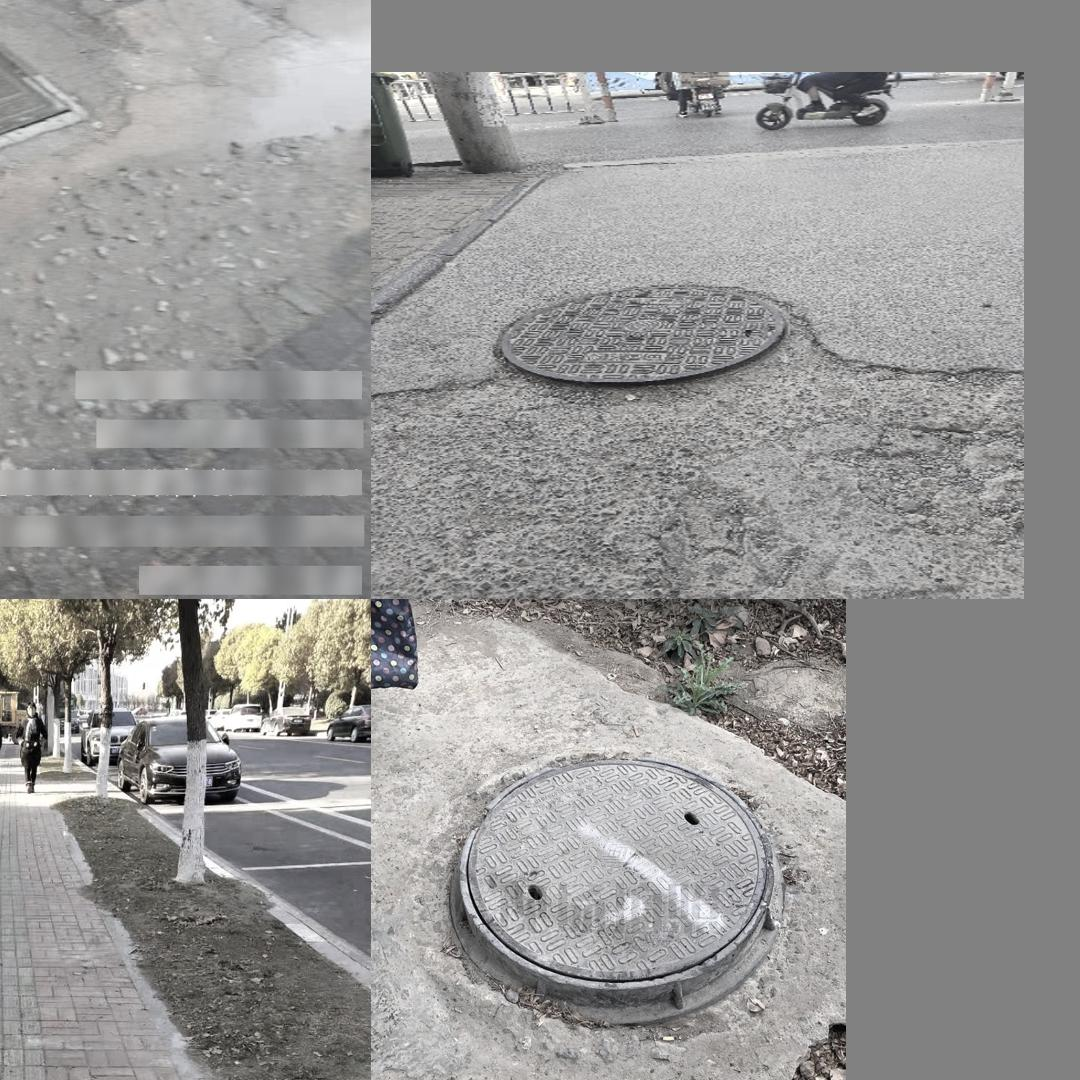good: (458, 760, 773, 989), (487, 285, 799, 384), (0, 1, 89, 243)
